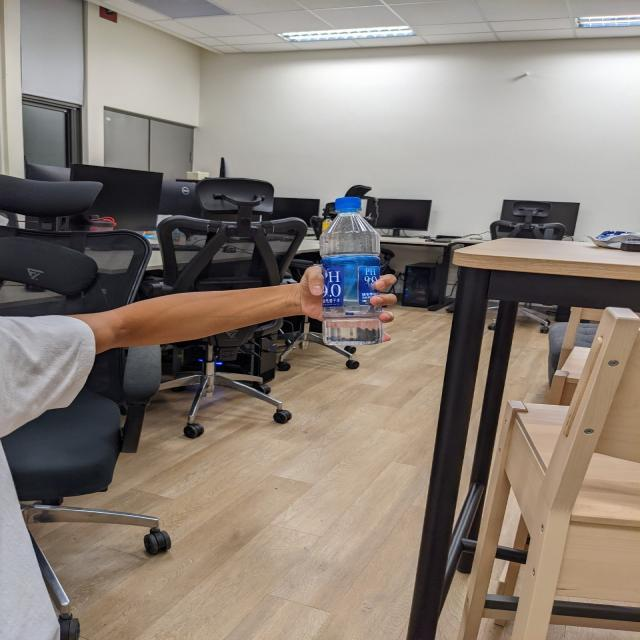good: (310, 186, 389, 350)
